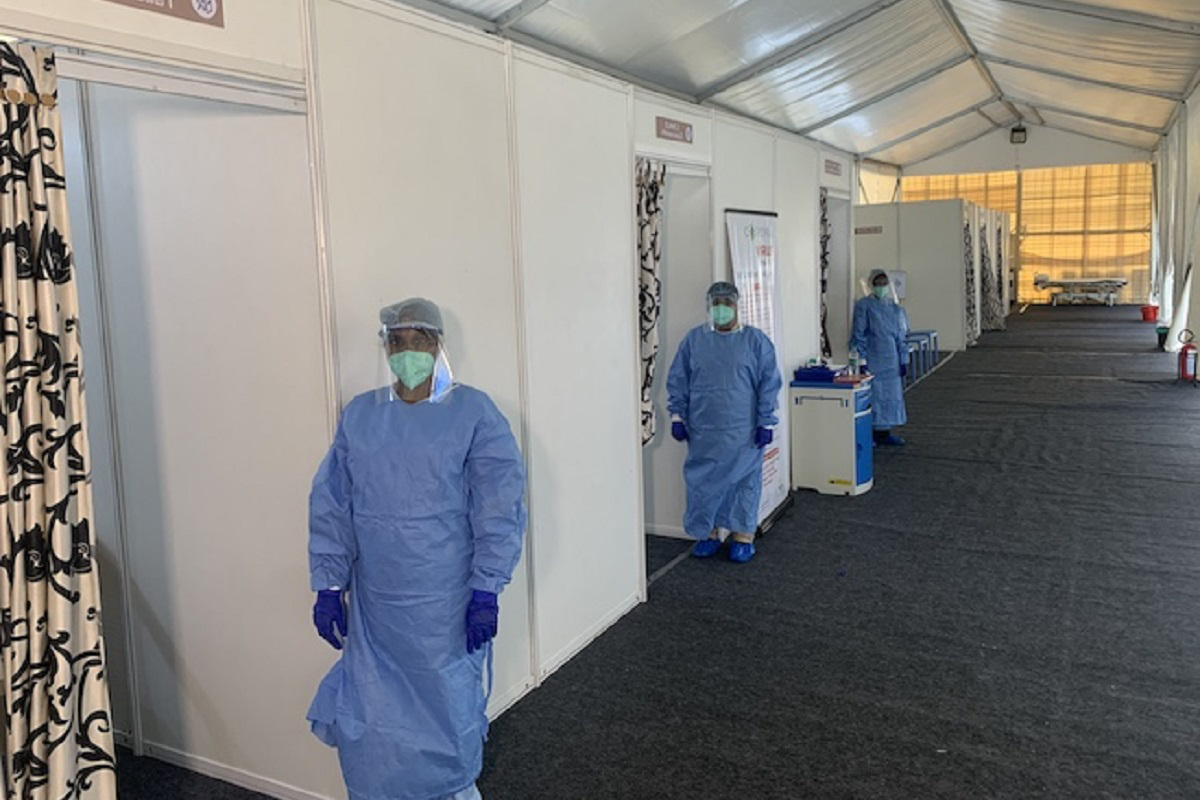Coverall: (308, 299, 527, 794), (668, 279, 780, 563), (850, 268, 913, 445)
Face_Shield: (372, 320, 460, 406), (706, 286, 745, 333), (863, 274, 903, 302)
Gloves: (311, 583, 354, 650), (465, 588, 505, 652), (668, 420, 688, 442), (758, 428, 772, 449), (900, 364, 912, 376)
with_mask: (390, 338, 430, 382), (712, 305, 734, 327), (875, 284, 887, 298)
